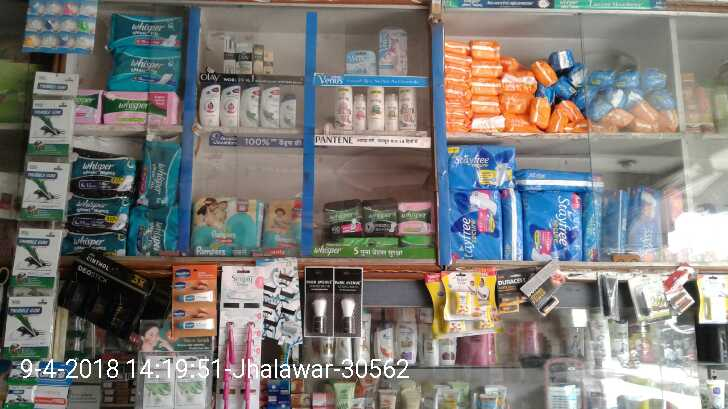venus: (217, 266, 261, 409), (266, 256, 297, 358), (379, 27, 408, 76), (346, 53, 377, 76)
